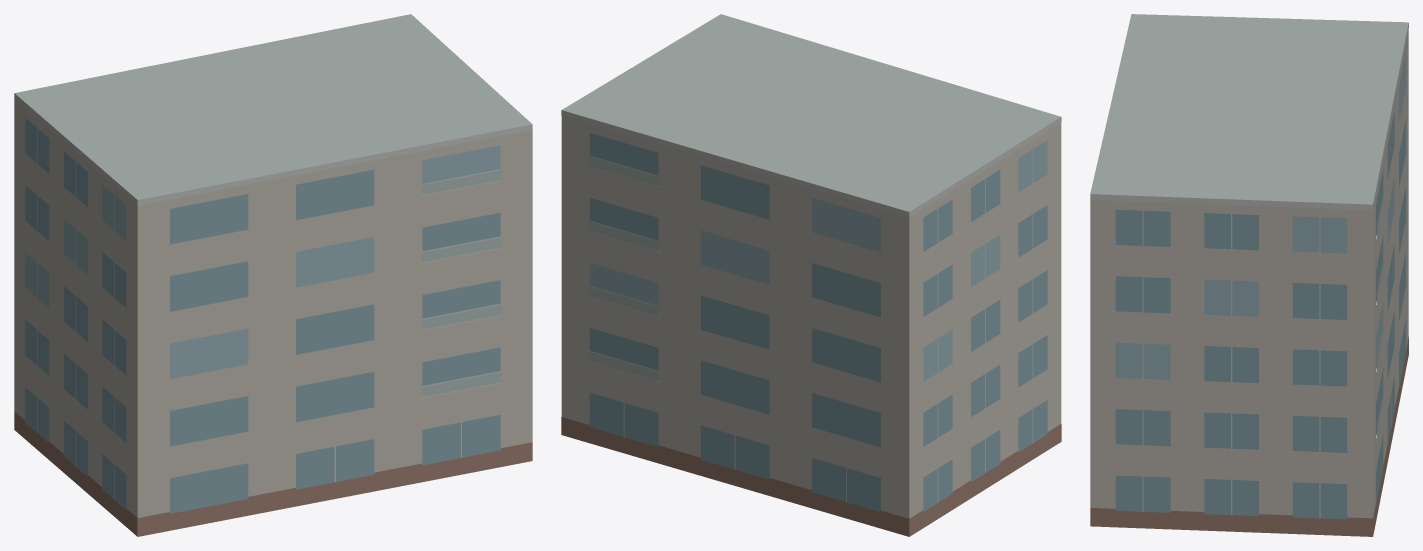
The model's file is survey-upis-32762620.glb.
3 views of the same model, side by side, from view 1: azimuth 30°, elevation 25°; view 2: azimuth 150°, elevation 25°; view 3: azimuth 270°, elevation 25° (orthographic). The views are drawn at different scales.
Parts seen in each view (by area): view 1: survey-upis-32762620.tmp; view 2: survey-upis-32762620.tmp; view 3: survey-upis-32762620.tmp.
Part boxes in pixels (left/top/right/bottom): survey-upis-32762620.tmp: left=14, top=14, right=532, bottom=536; survey-upis-32762620.tmp: left=561, top=14, right=1061, bottom=536; survey-upis-32762620.tmp: left=1090, top=14, right=1408, bottom=536.
Bounding box in the file's own units: 17.85 × 14.5 × 12.61.
